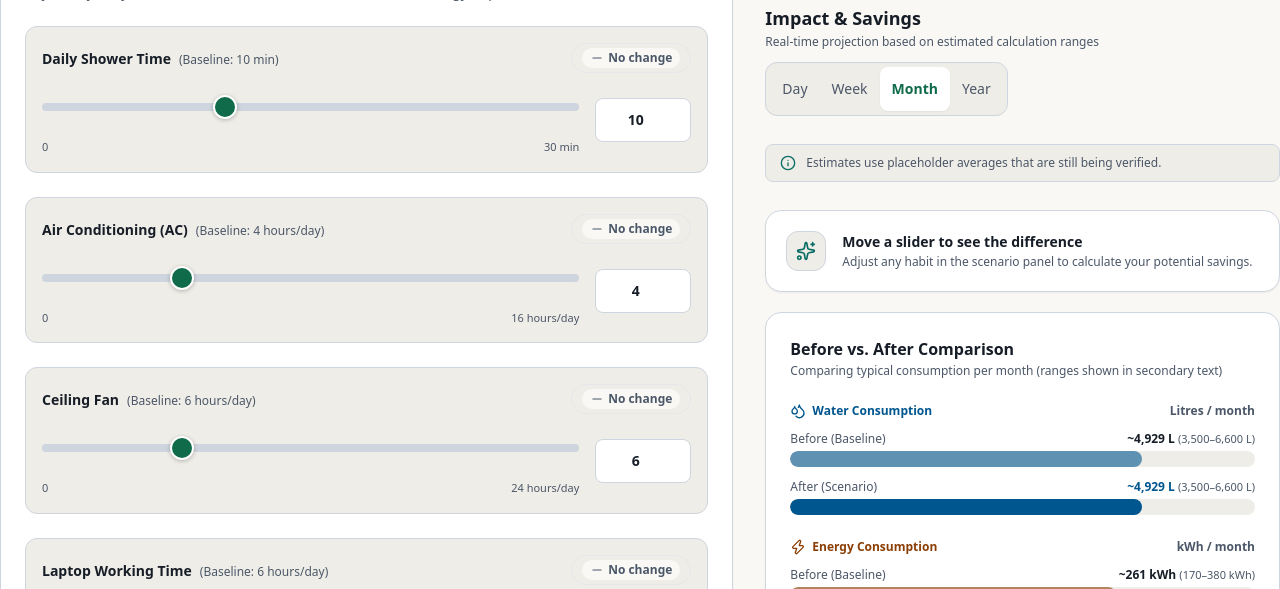
Test: Simulator Component › allows clearing then typing works, and out-of-range does not update results
(page scrolled)
# Set out of range atomically
Replace the text in the number field named "air conditioning (ac) numeric input" with "30" at {"x": 643, "y": 291}, box [595,269,691,313]
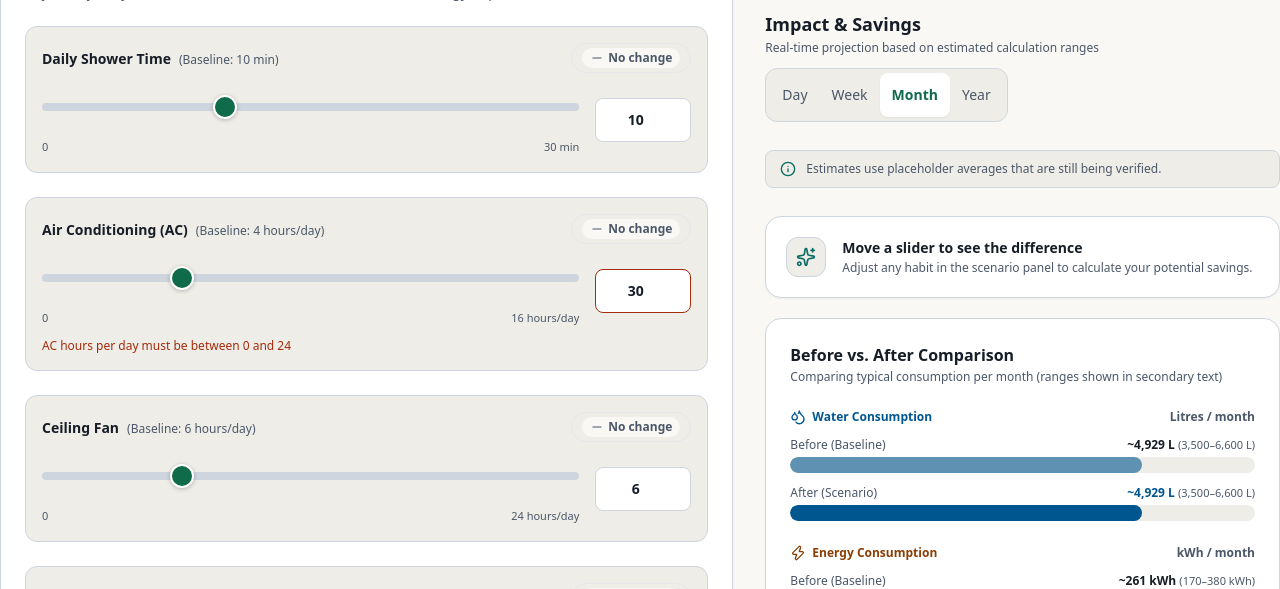
Expected: the text "You could save per month:" is not shown
Expected: the text "AC hours per day must be between 0 and 24" is shown, [42,337,291,354]
# Clear and set valid 3
Replace the text in the number field named "air conditioning (ac) numeric input" with "3" at {"x": 643, "y": 291}, box [595,269,691,313]
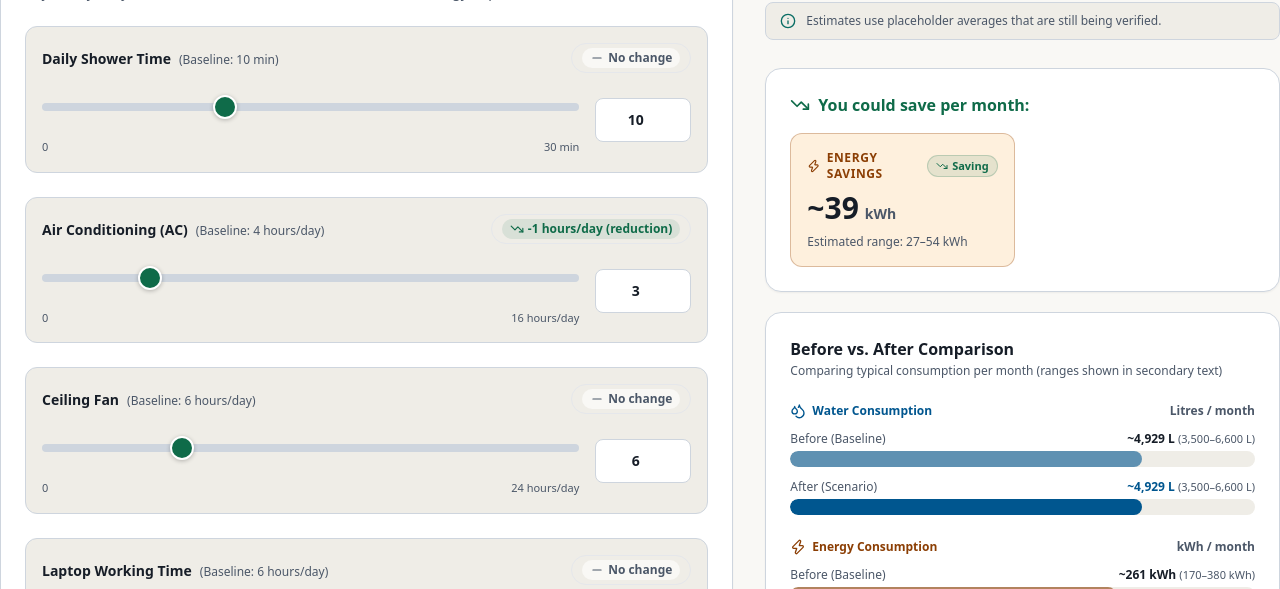
Expected: the text "AC hours per day must be between 0 and 24" is gone
Expected: the text "~39" is shown, [807,190,859,226]
